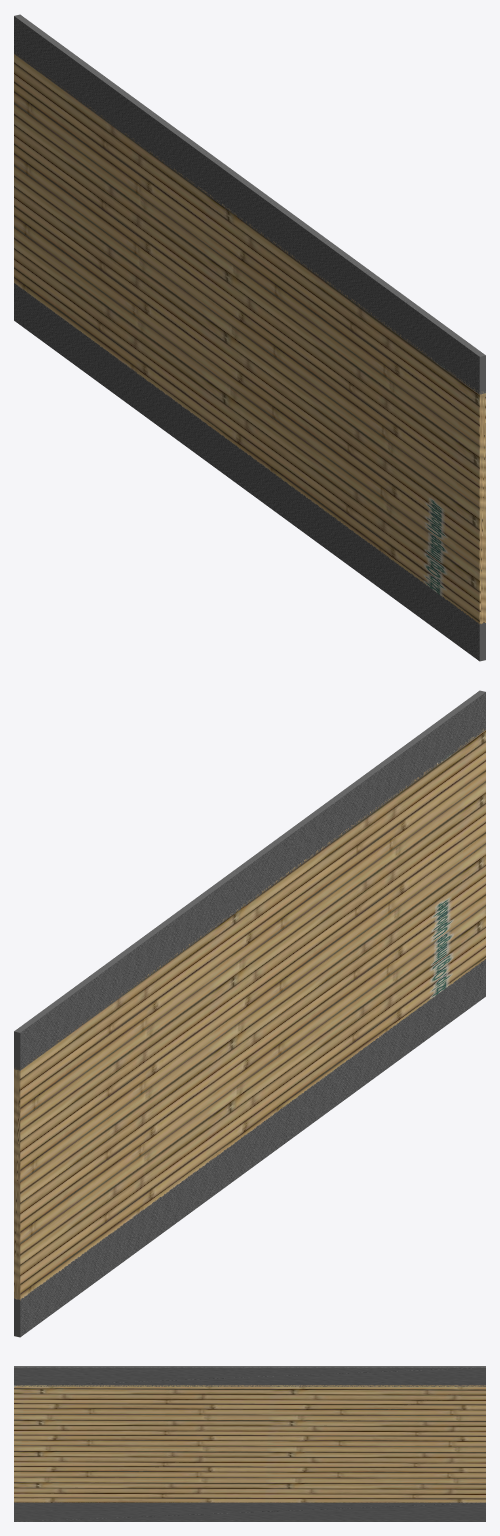
File: Cortina.obj
3 renders of one model, top to bottom at view 1: azimuth 30°, elevation 25°; view 2: azimuth 150°, elevation 25°; view 3: azimuth 270°, elevation 25°, orthographic. The views are drawn at different scales.
Visible parts, largest first — view 1: pasted__pasted__pCube1; view 2: pasted__pasted__pCube1; view 3: pasted__pasted__pCube1.
Boxes of the visible parts, left/top/right/bottom form: pasted__pasted__pCube1: left=14, top=14, right=485, bottom=661; pasted__pasted__pCube1: left=14, top=690, right=485, bottom=1337; pasted__pasted__pCube1: left=14, top=1366, right=485, bottom=1521.
Bounding box in the file's own units: 0.081 × 3.82 × 10.58.
Materials: 2 (2 with a texture image).
